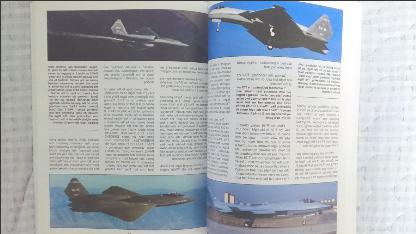US2: (209, 3, 334, 54), (63, 177, 197, 221), (207, 185, 332, 225), (111, 18, 189, 50)
